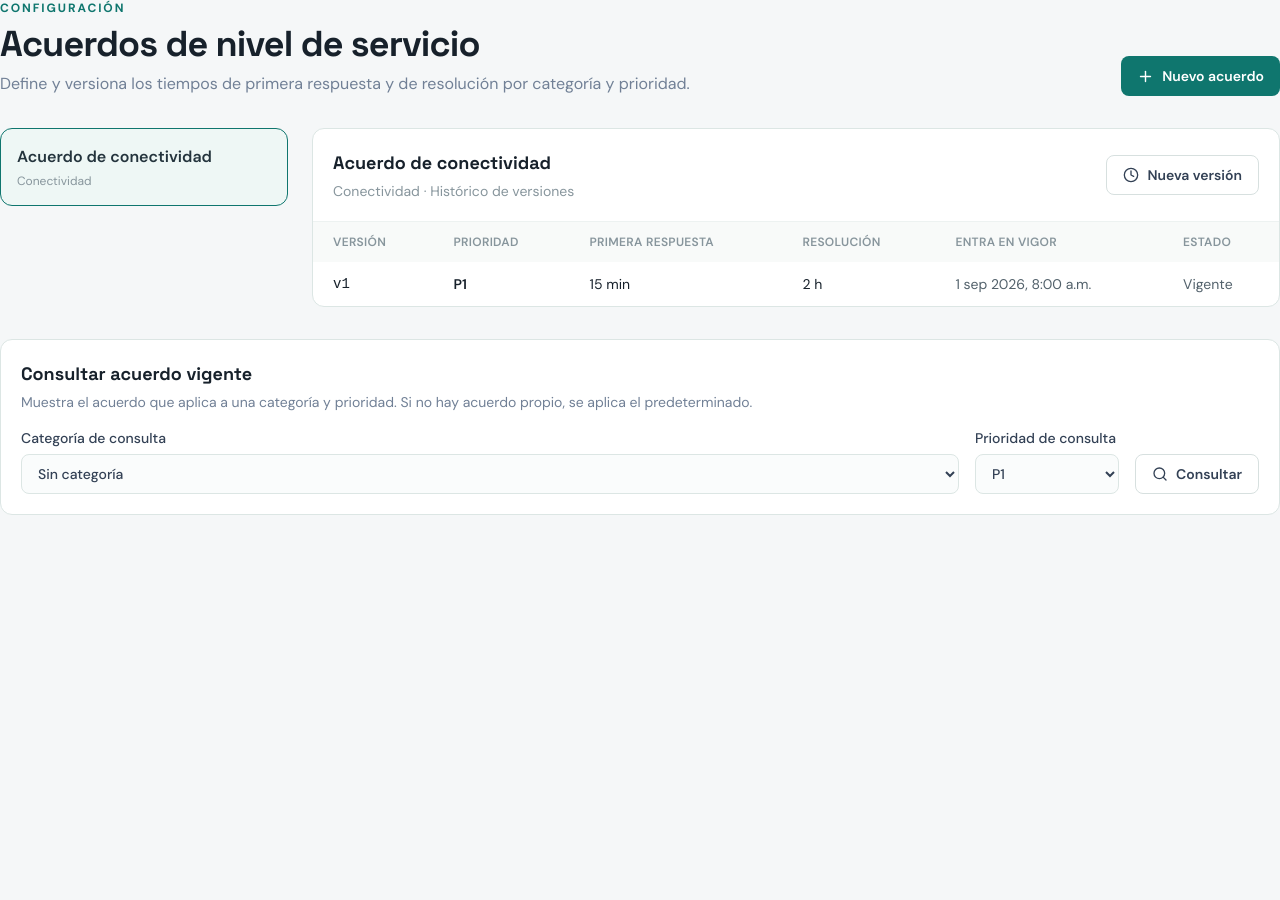
Test case: SlaPage: configuración de SLA (S2-14, HU-08.1) › muestra el error del servidor cuando el acuerdo ya existe
Expected: the text "v1" is shown, 313,262 -> 434,306
Click the button "Nuevo acuerdo" at (1201, 76), box 1121,56 -> 1279,96
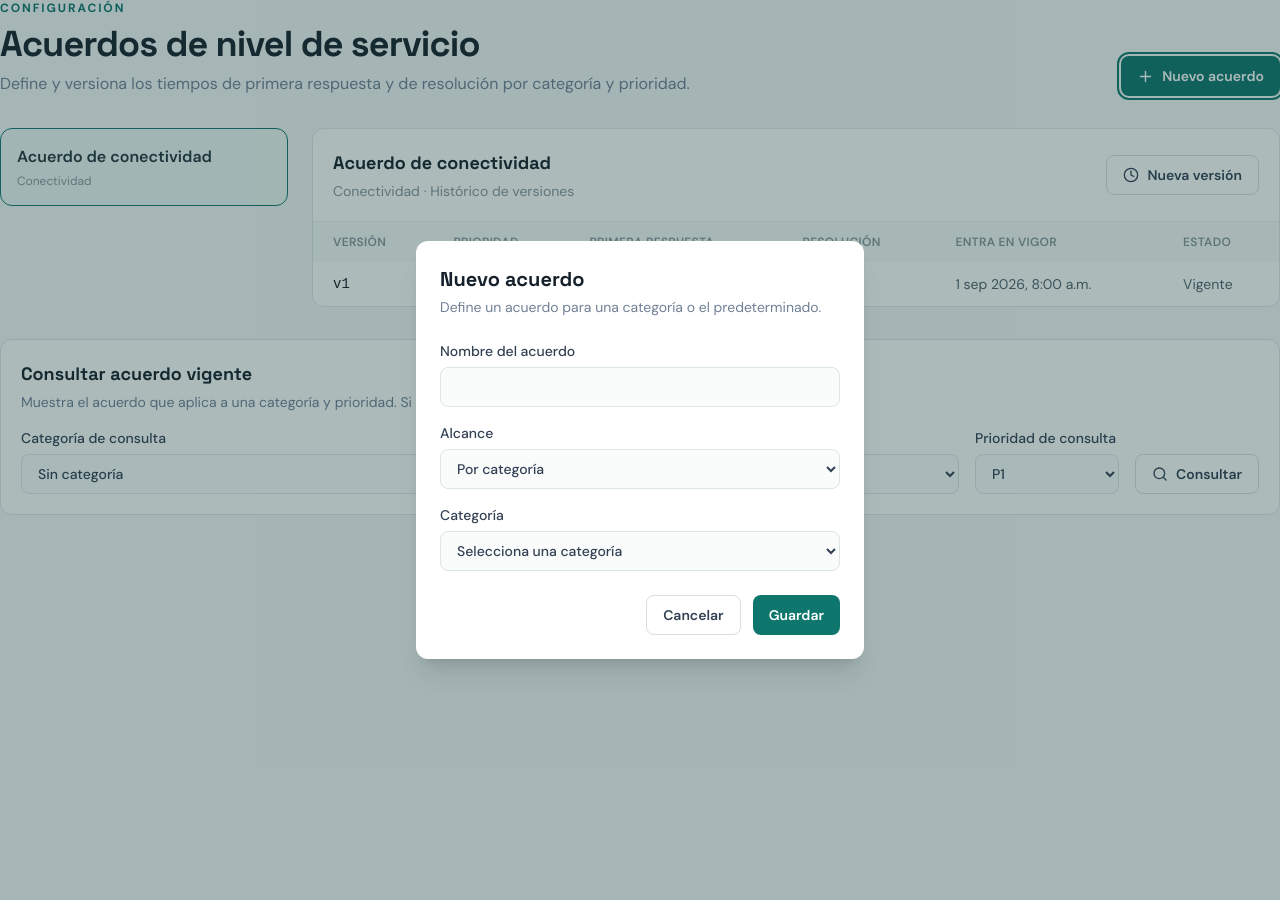
Type "Redes" into the field labelled "Nombre del acuerdo" at (640, 387), box 440,367 -> 840,407
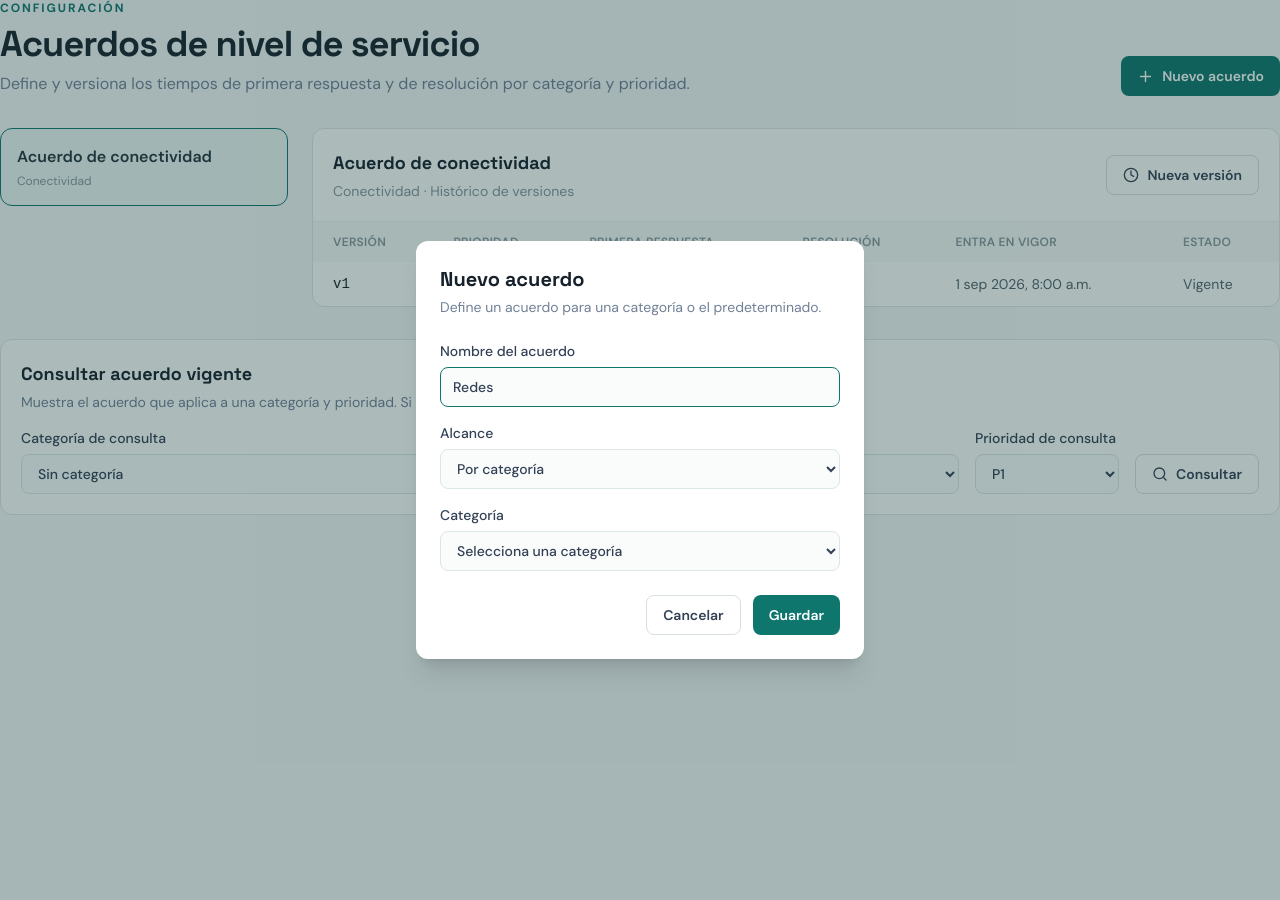
Select "Conectividad" in the dropdown labelled "Categoría" at (640, 551), box 440,531 -> 840,571
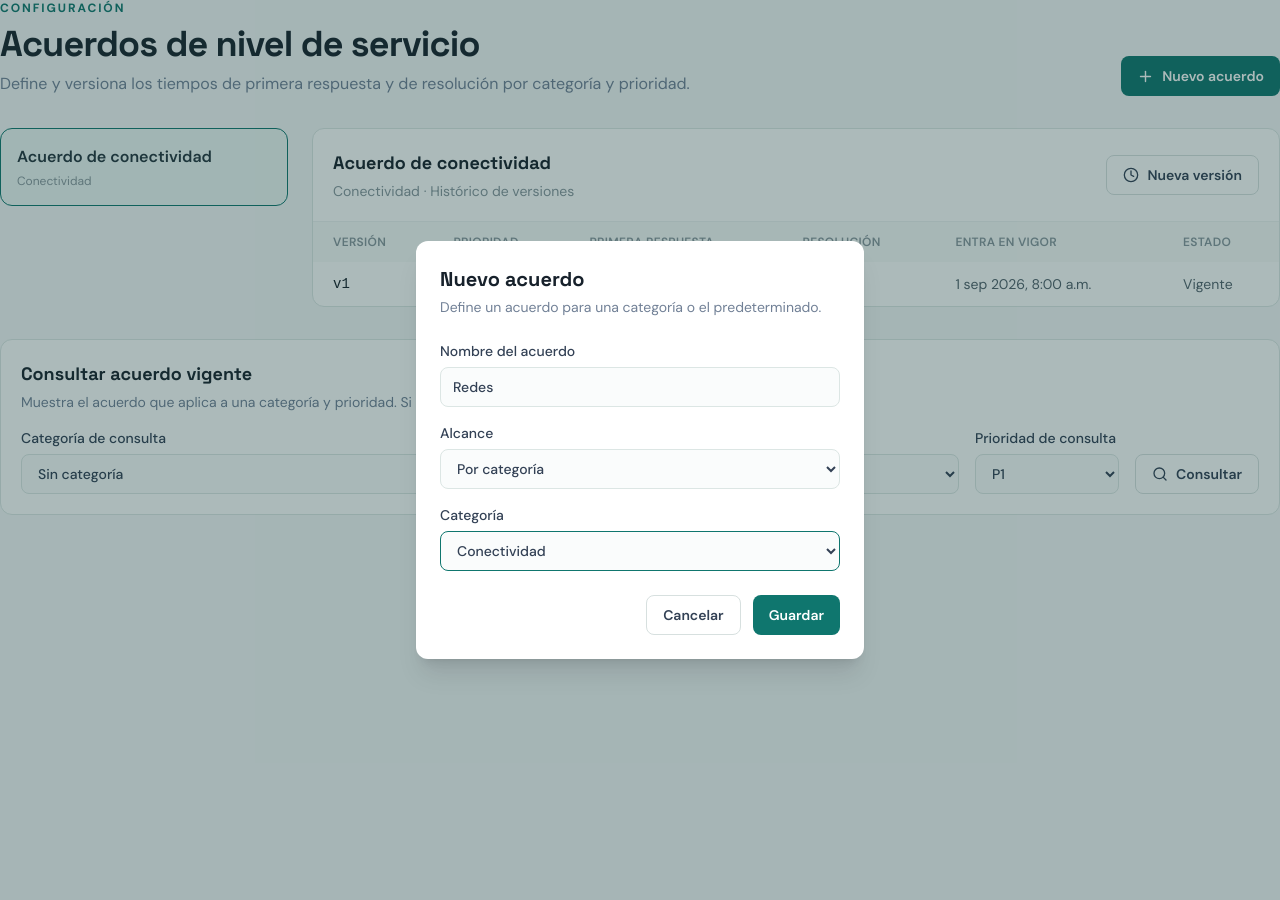
Click the button "Guardar" at (796, 615), box 753,595 -> 840,635
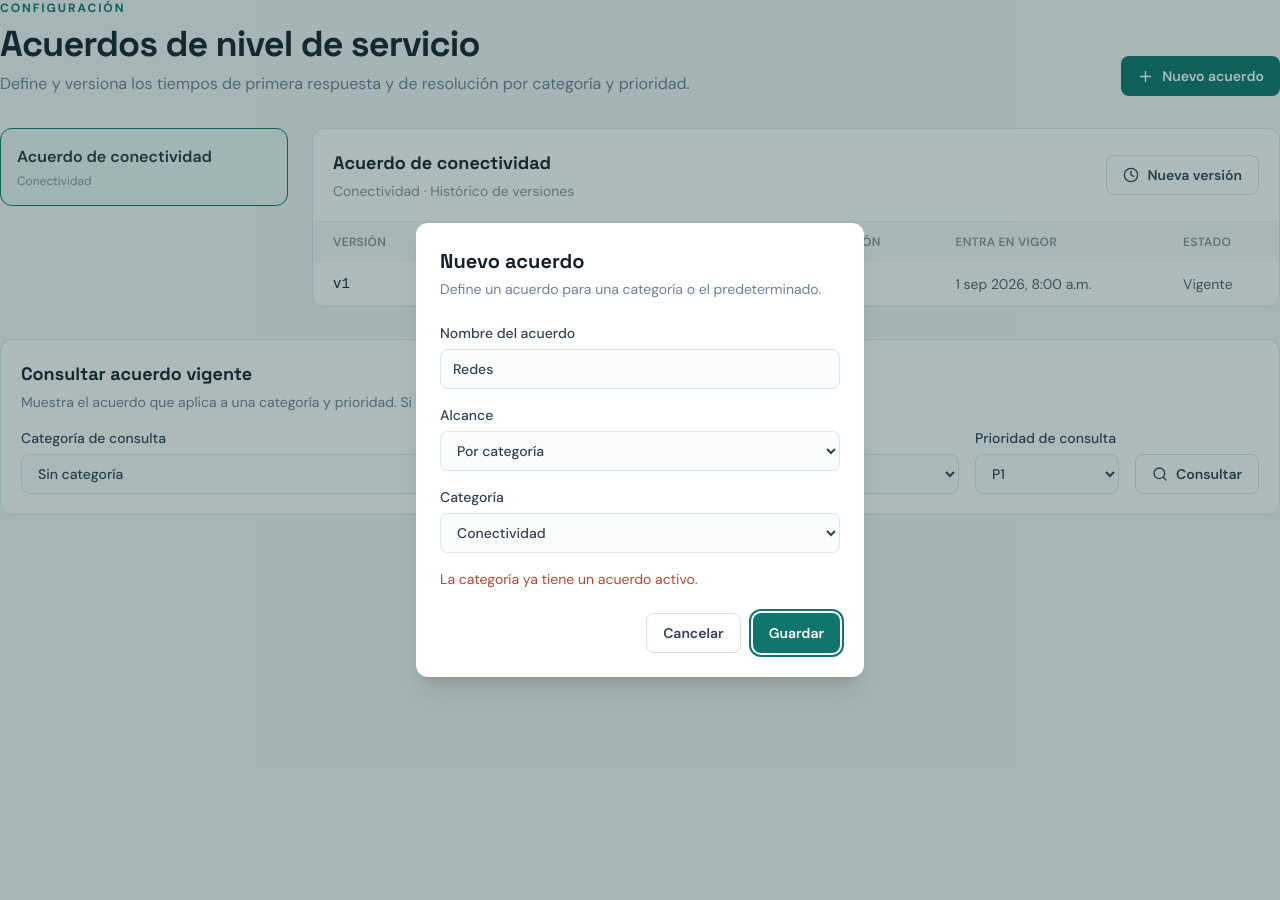
Expected: the text "La categoría ya tiene un acuerdo activo." is shown, 440,570 -> 698,588
